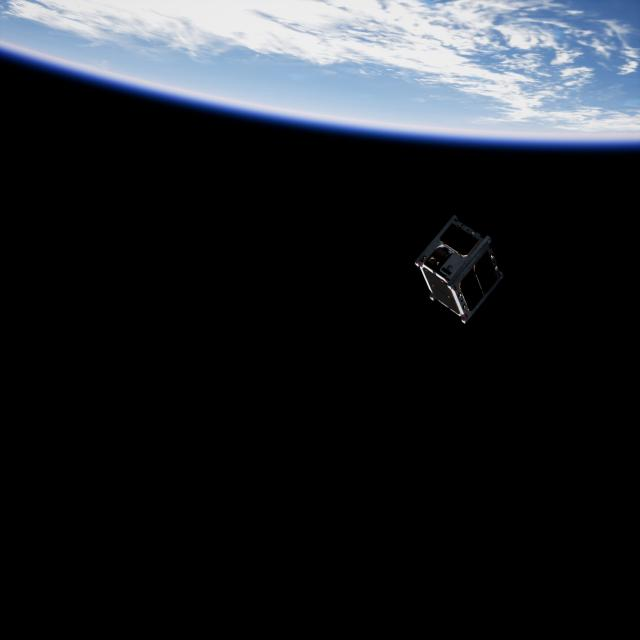medium_debris: (418, 212, 510, 326)
